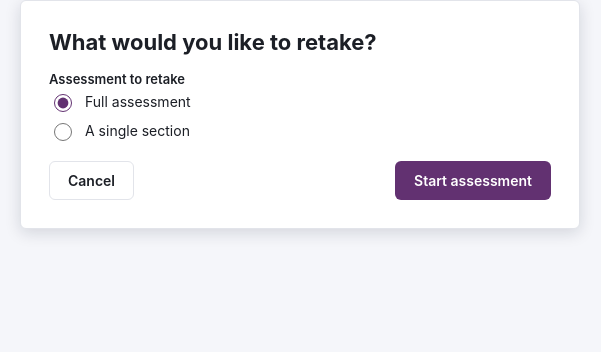
Scenario: ReassessPage › offers a retry when the sections fail to load
Click the radio button labelled "A single section".
click(63, 132)  # box [54,123,72,141]
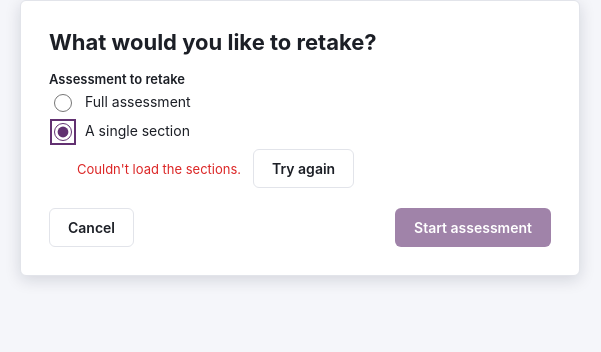
Click the button "Try again".
click(304, 168)  # box [253,149,354,188]
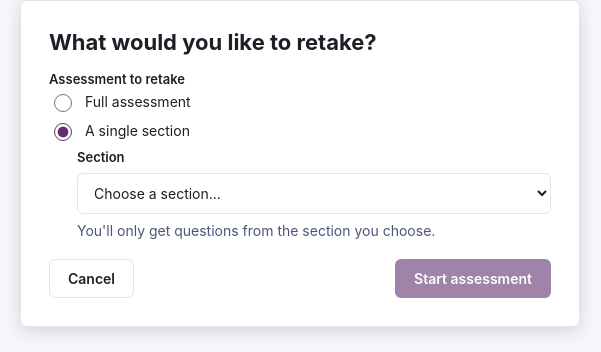
Result: the dropdown labelled "Section" is shown at [77,173,551,214]
